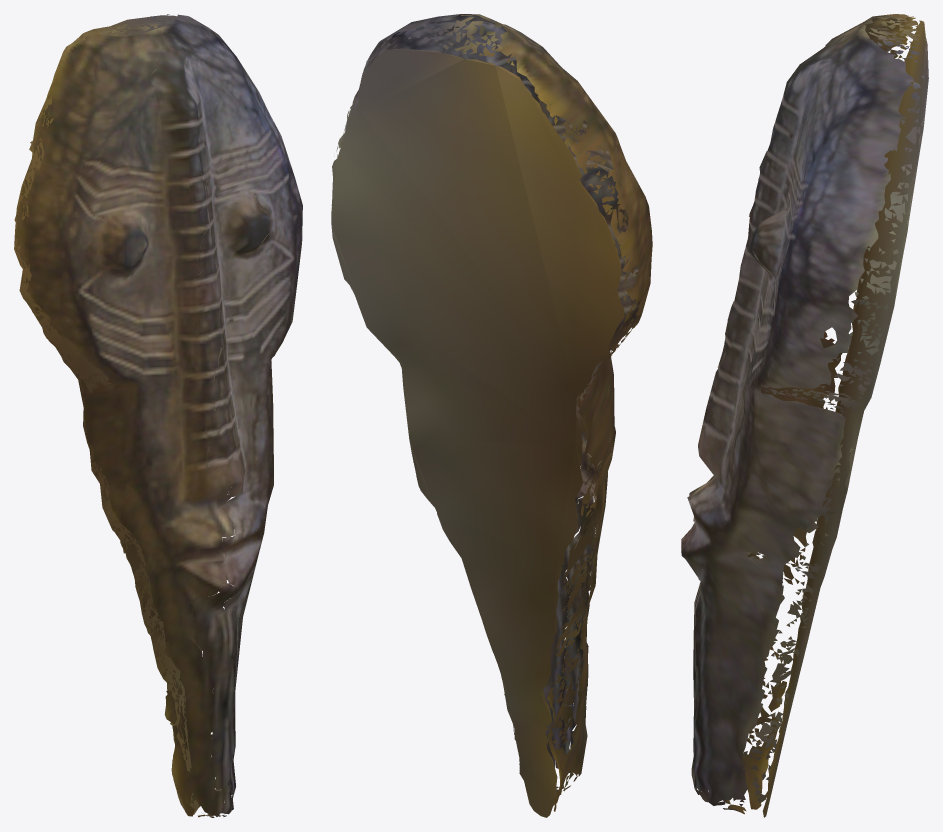
File: tribal_mask.glb
3 views of the same model, side by side, from view 1: azimuth 30°, elevation 25°; view 2: azimuth 150°, elevation 25°; view 3: azimuth 270°, elevation 25° (orthographic). The views are drawn at different scales.
Parts seen in each view (by area): view 1: Object_2; view 2: Object_2; view 3: Object_2.
Boxes of the visible parts, x1,y1,x2,y2 form: Object_2: (14, 14, 302, 817); Object_2: (331, 14, 652, 817); Object_2: (681, 14, 928, 817).
Bounding box in the file's own units: 0.1835 × 0.4971 × 0.1408.
Materials: 1 (1 with a texture image).
